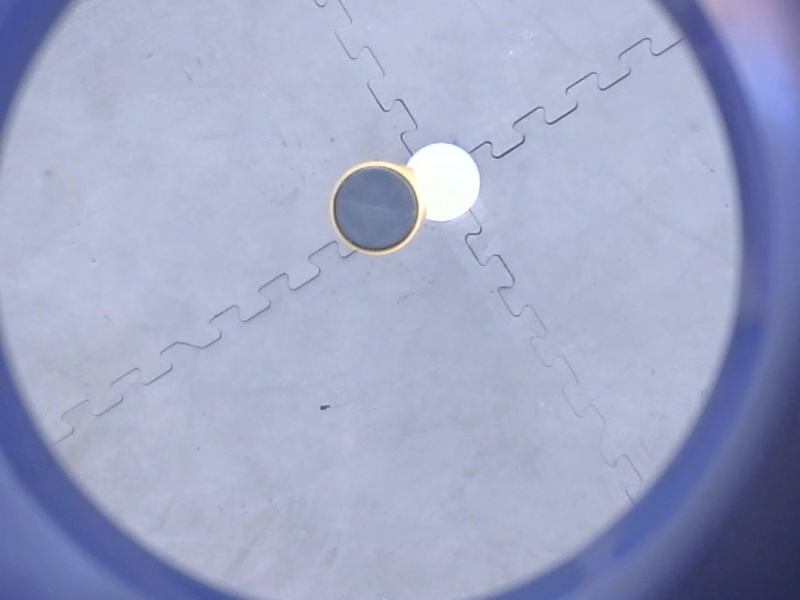tip: (324, 155, 427, 261)
